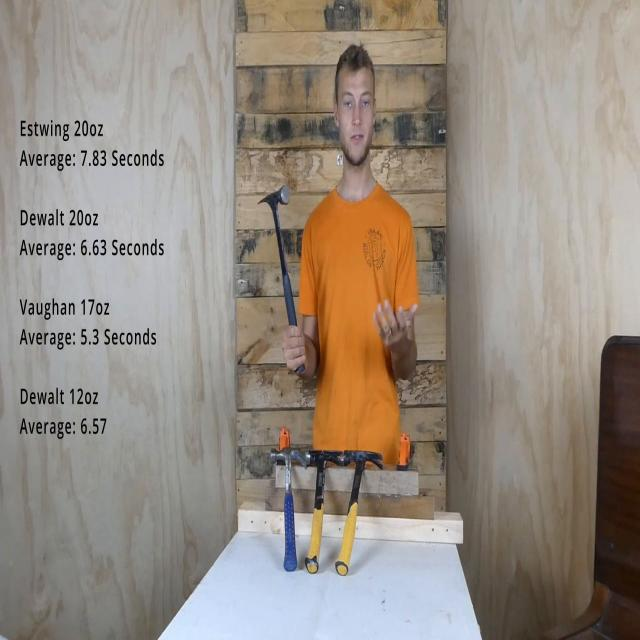hammer: (255, 179, 308, 380), (336, 447, 385, 586), (268, 442, 311, 578), (304, 442, 343, 578)
